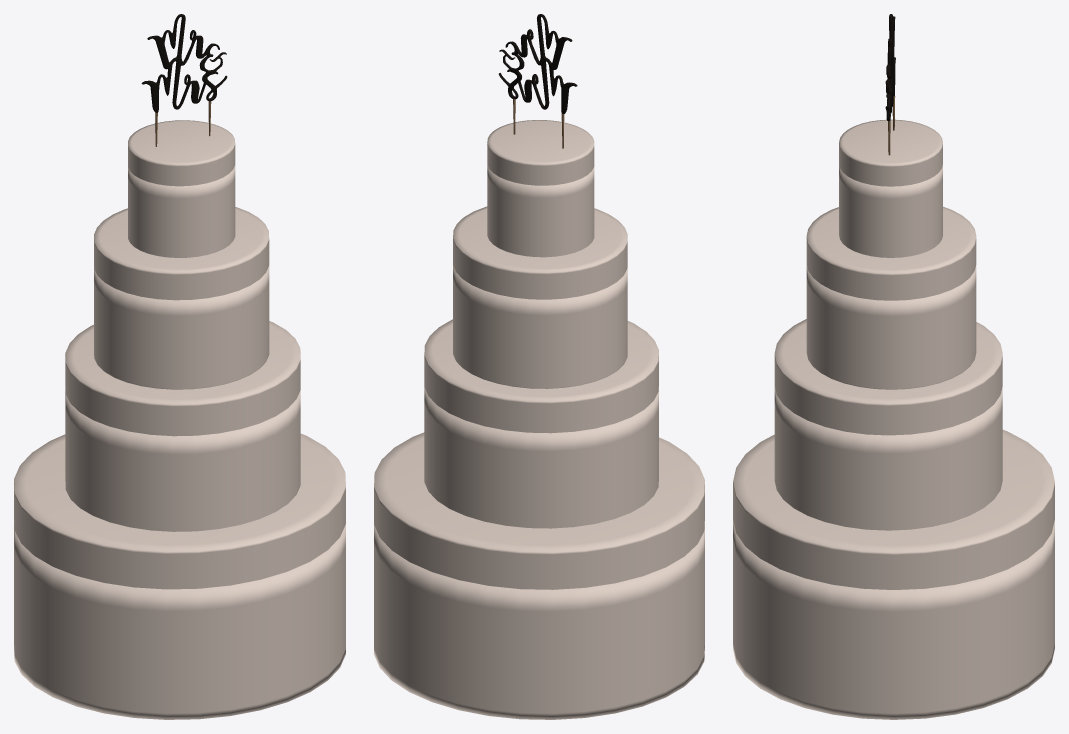
Rendered from 4-tier-white-none-mrms.glb.
3 renders of one model, left to right at view 1: azimuth 30°, elevation 25°; view 2: azimuth 150°, elevation 25°; view 3: azimuth 270°, elevation 25°, orthographic.
Visible parts, largest first — view 1: 3.001, 3, 2, 1, mrms.004; view 2: 3.001, 3, 2, 1, mrms.004; view 3: 3.001, 3, 2, 1, mrms.004.
Boxes of the visible parts, <box> form: 3.001: <box>14,433,345,719</box>; 3: <box>65,321,300,531</box>; 2: <box>94,207,269,389</box>; 1: <box>128,120,235,257</box>; mrms.004: <box>141,14,227,146</box>; 3.001: <box>374,432,704,719</box>; 3: <box>424,319,658,528</box>; 2: <box>453,206,627,388</box>; 1: <box>487,120,594,257</box>; mrms.004: <box>498,14,577,148</box>; 3.001: <box>733,430,1054,719</box>; 3: <box>774,319,1002,530</box>; 2: <box>806,206,976,389</box>; 1: <box>839,119,942,257</box>; mrms.004: <box>885,14,895,155</box>.
Size of the model in its own units: 4.43 by 9.28 by 4.27.
